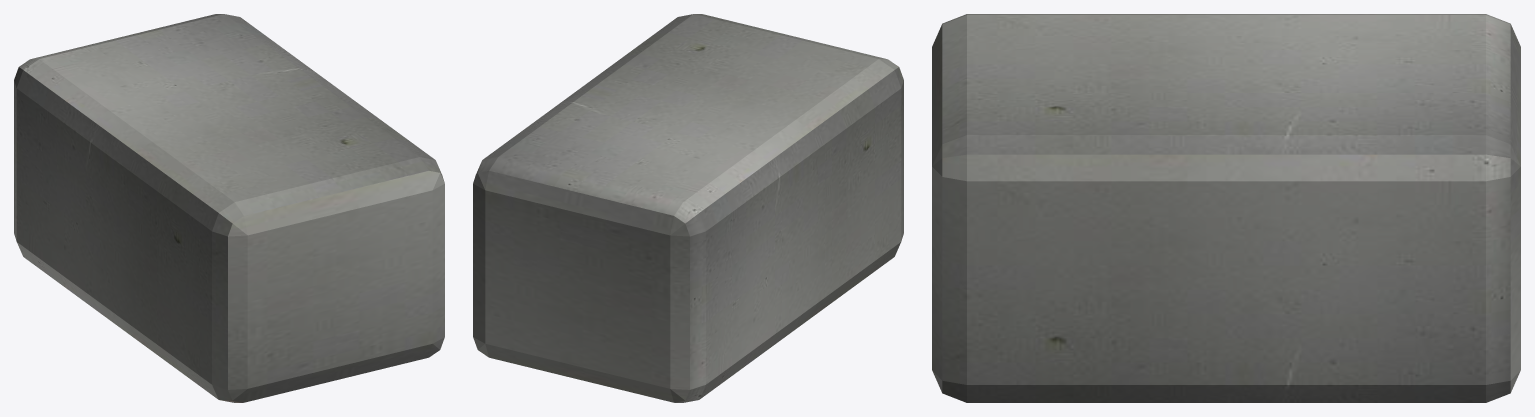
Rendered from vending machine 10.obj.
3 views of the same model, side by side, from view 1: azimuth 30°, elevation 25°; view 2: azimuth 150°, elevation 25°; view 3: azimuth 270°, elevation 25° (orthographic). The views are drawn at different scales.
Visible parts, largest first — view 1: Object.1; view 2: Object.1; view 3: Object.1.
Boxes of the visible parts, x1,y1,x2,y2 form: Object.1: (14, 14, 444, 402); Object.1: (473, 14, 903, 402); Object.1: (932, 14, 1520, 402).
Size of the model in its own units: 1104 by 920 by 1840.
1 material, 1 textured.
